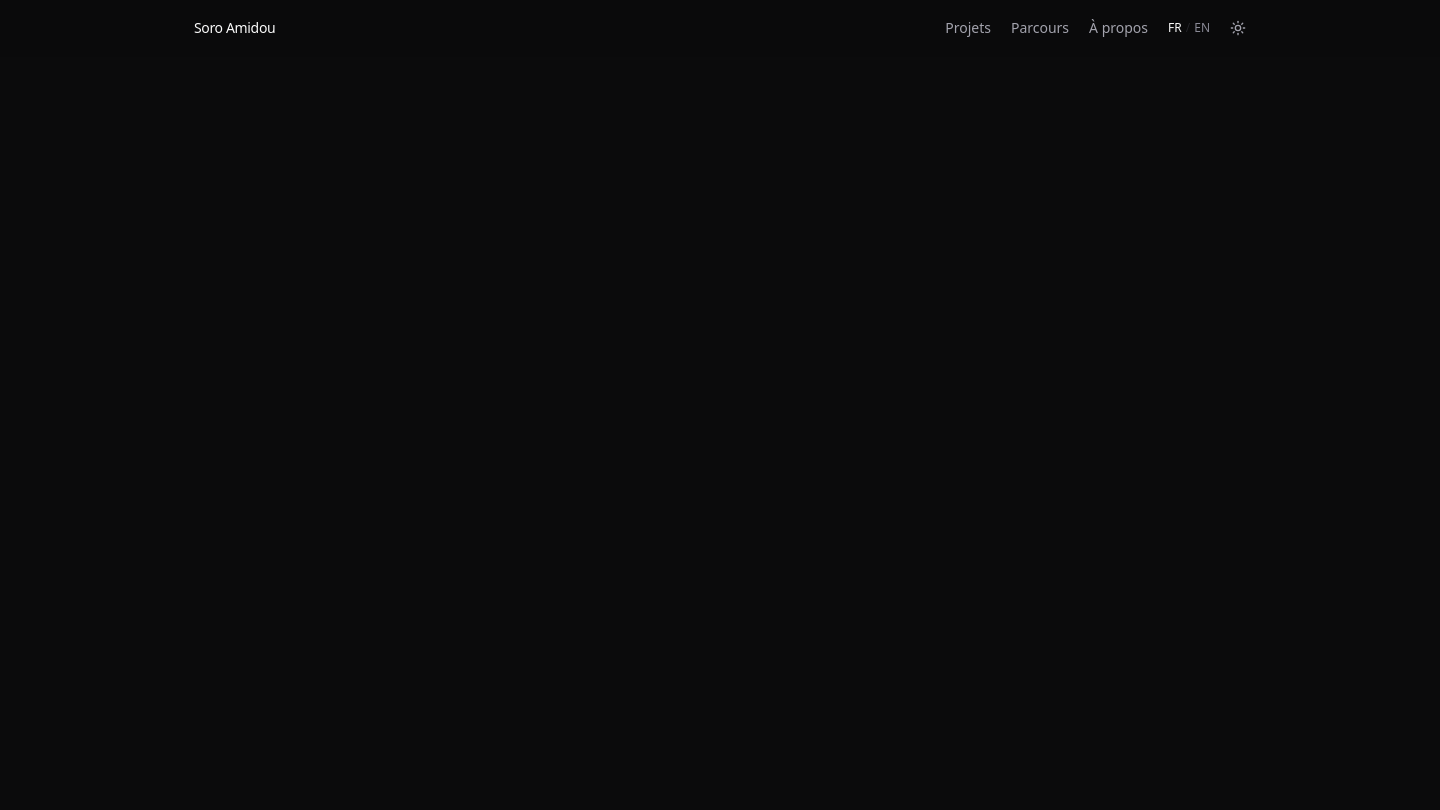
Navbar › part du mode sombre et bascule en clair
Step 1. Click the button named "Passer en mode clair" → (1238, 28), box x1=1224 y1=14 x2=1252 y2=42
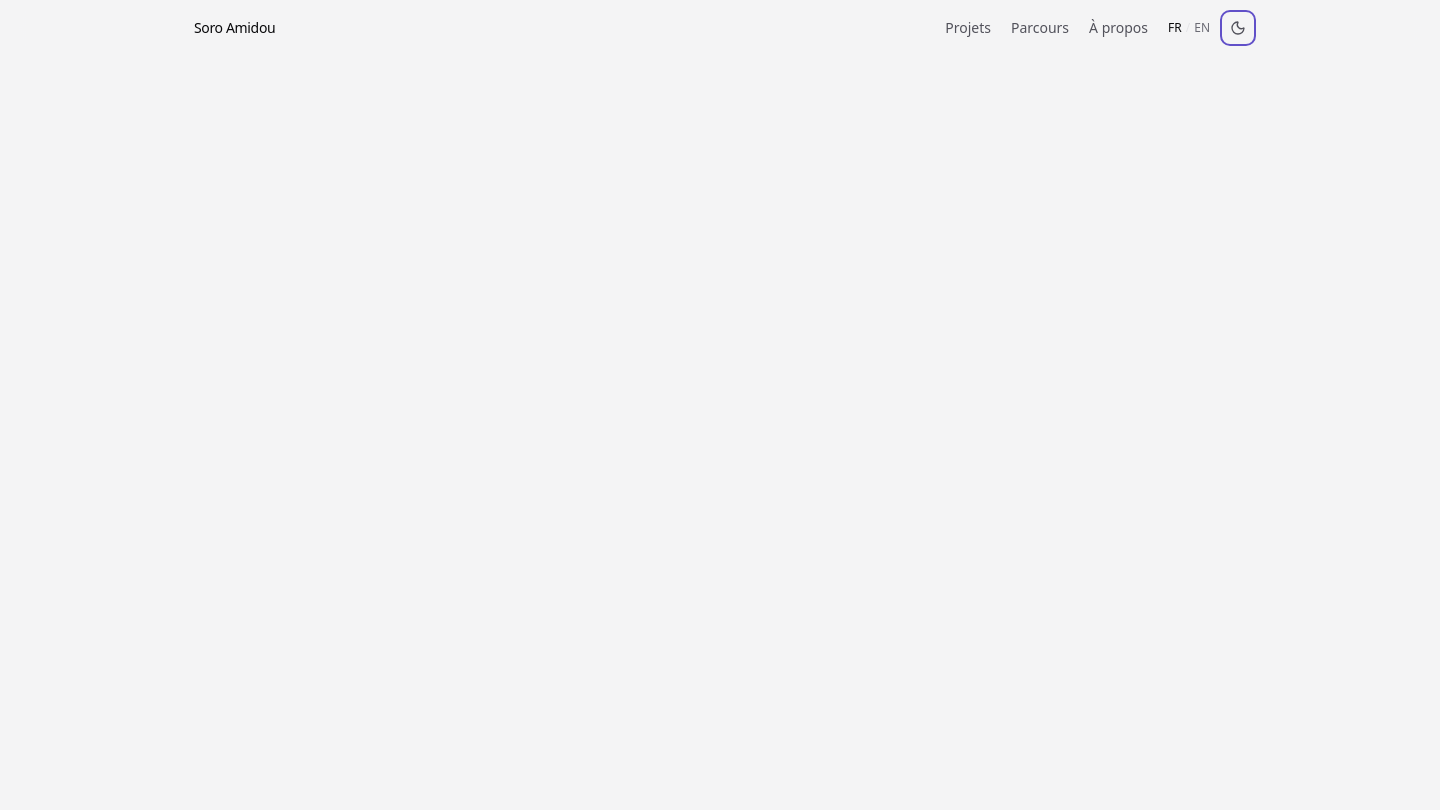
Now the button named "Passer en mode sombre" is shown, box x1=1224 y1=14 x2=1252 y2=42
